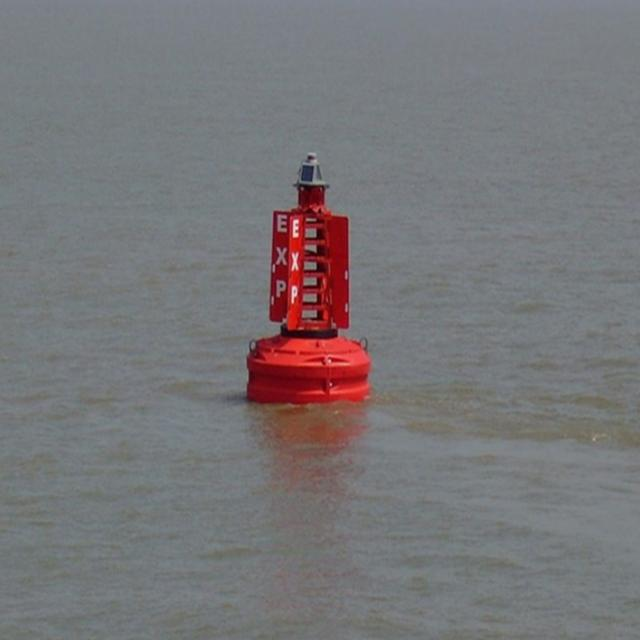buoy: (235, 146, 383, 407)
